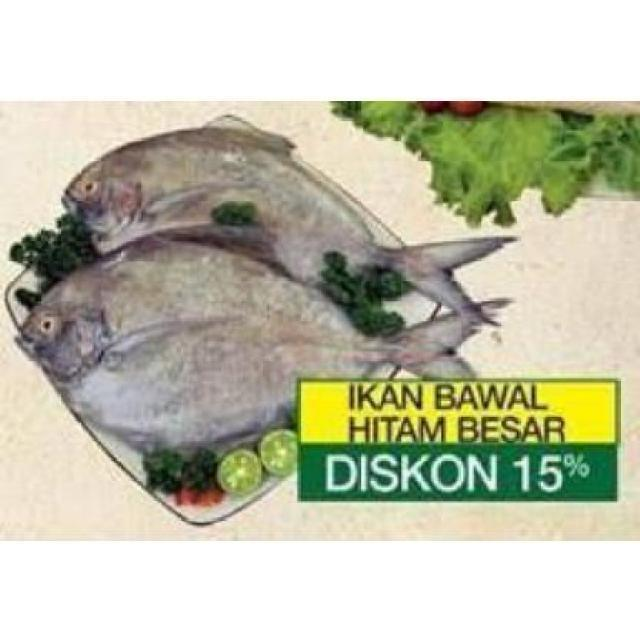ikan-pacu: (22, 239, 430, 450), (63, 116, 451, 276)
